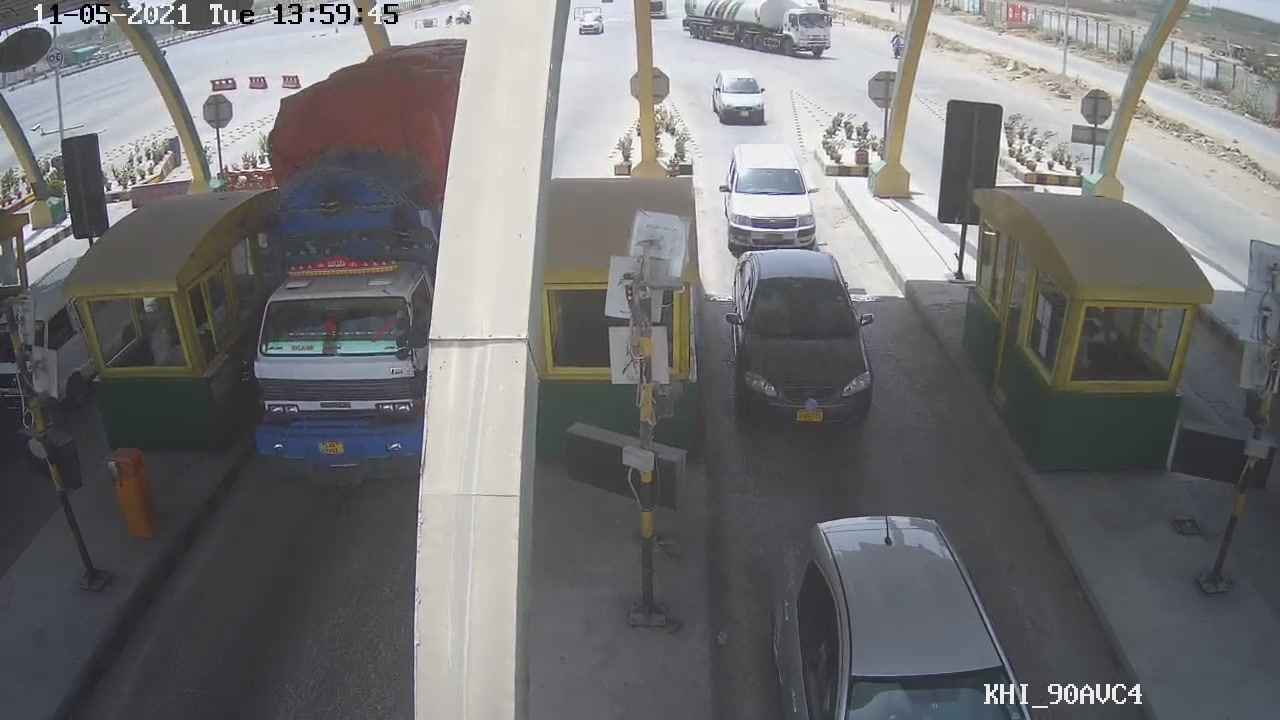F1: (715, 239, 879, 435)
